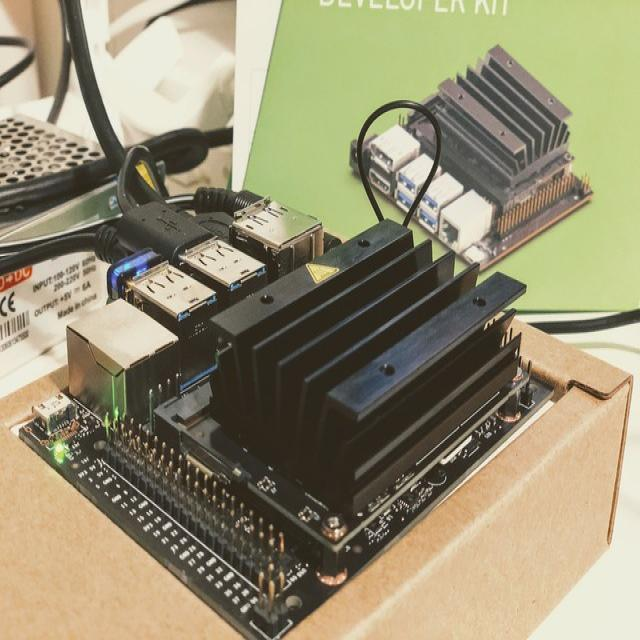Jetson Nano: (19, 199, 555, 639)
